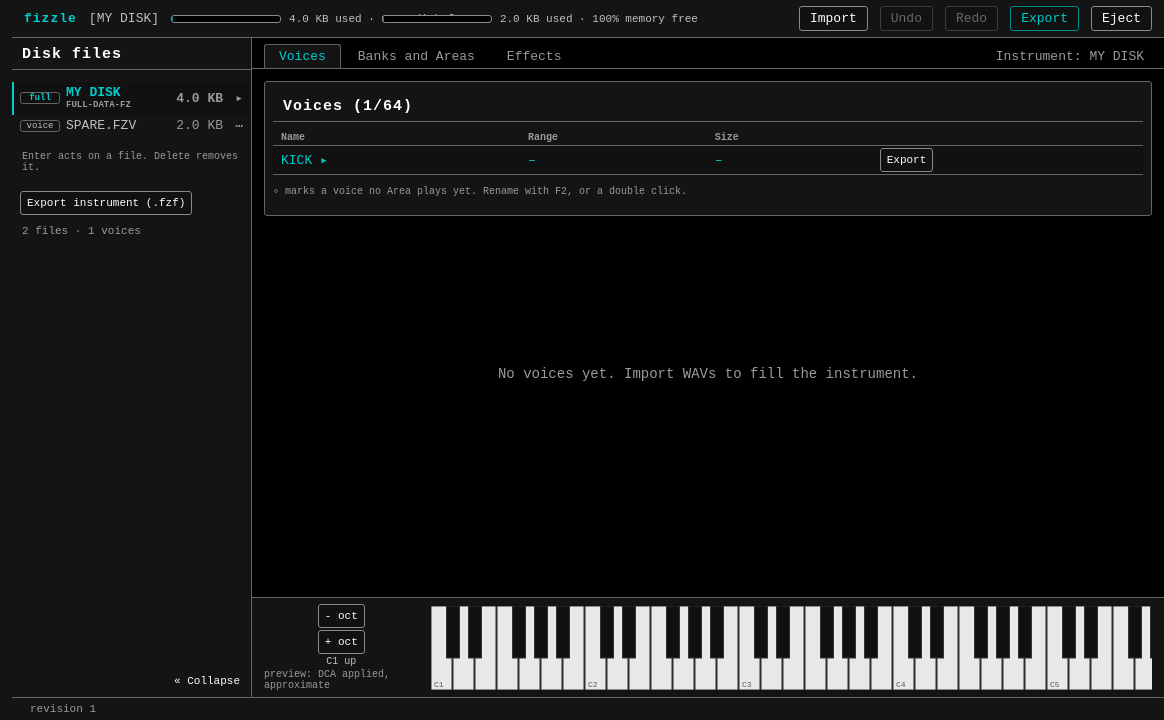
unexported changes accessibility state › announces the dirty state instead of exposing only a coloured dot
The width and height of the screenshot is (1164, 720).
Click the button with aria-label "disk MY DISK, rename".
click(124, 18)  # box [89,11,159,26]
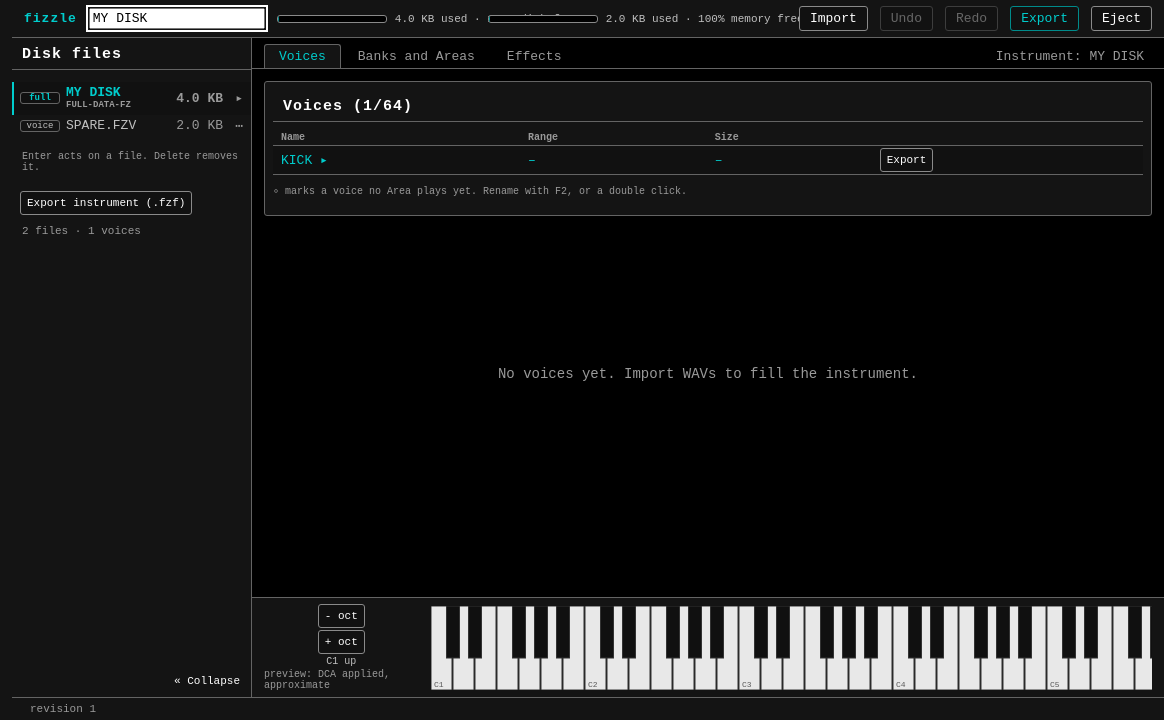
Replace the text in the field named "disk label" with "NEW NAME" at (177, 18), box [89,8,265,29]
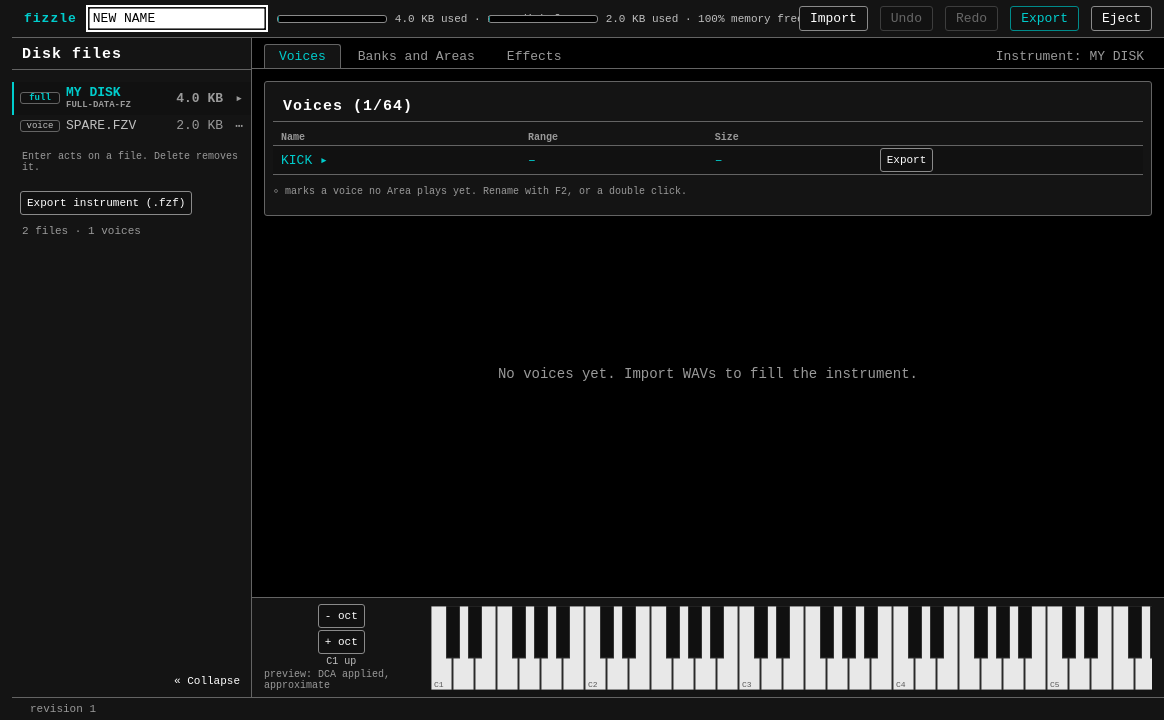
Leave the field named "disk label", box [89,8,265,29]
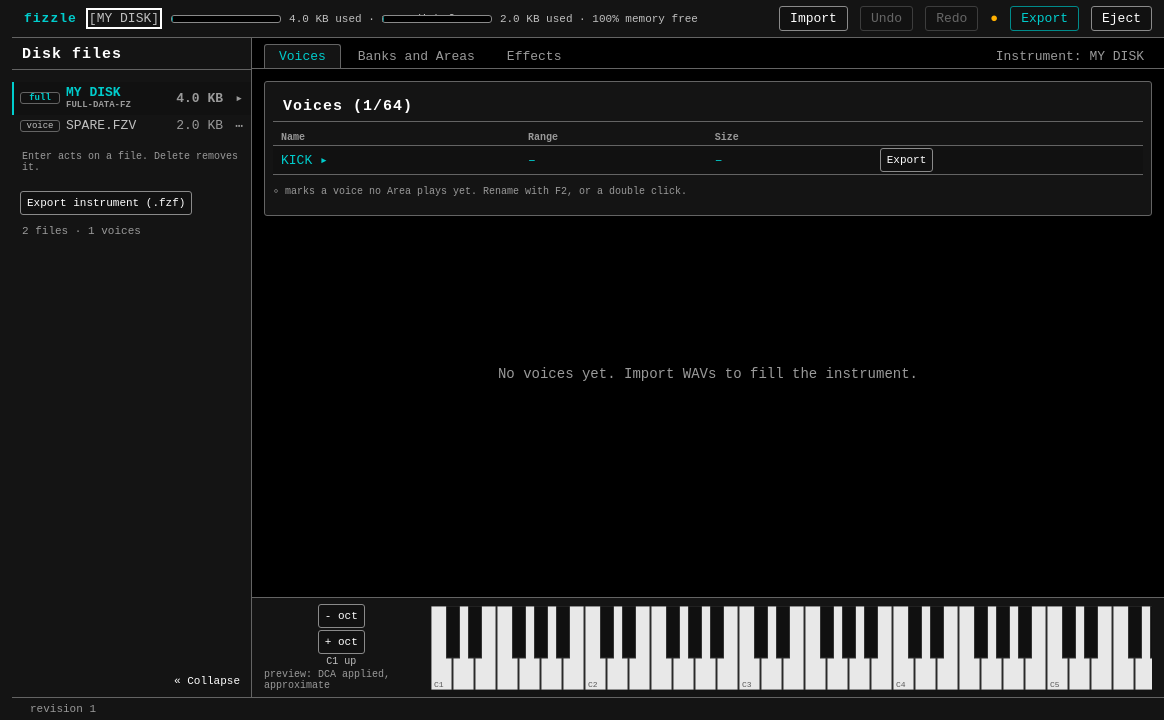
Expected: the message named "Unexported changes" is shown, [990,11,998,26]
